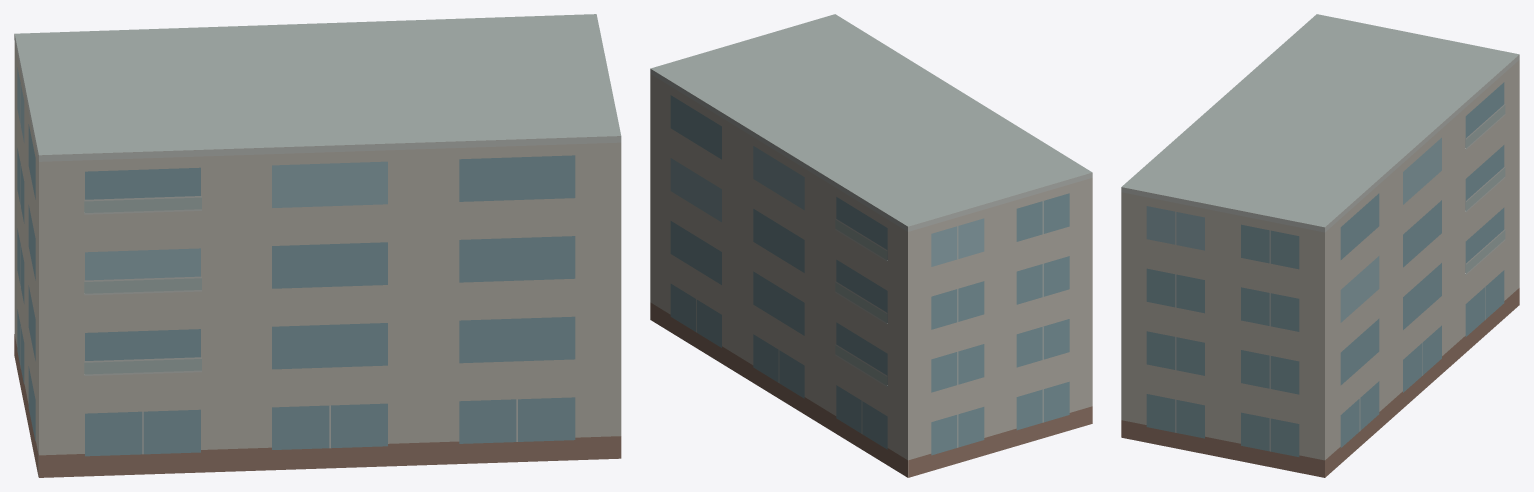
File: survey-upis-32552264.glb
The picture shows the model from 3 angles, left to right: view 1: azimuth 30°, elevation 25°; view 2: azimuth 150°, elevation 25°; view 3: azimuth 270°, elevation 25°; orthographic projection. The views are drawn at different scales.
Visible parts, largest first — view 1: survey-upis-32552264.tmp; view 2: survey-upis-32552264.tmp; view 3: survey-upis-32552264.tmp.
Part boxes in pixels (x1,y1,x2,y2): survey-upis-32552264.tmp: [14, 14, 621, 477]; survey-upis-32552264.tmp: [650, 14, 1092, 477]; survey-upis-32552264.tmp: [1121, 14, 1519, 477].
Bounding box in the file's own units: 21.47 × 11.75 × 16.94.
